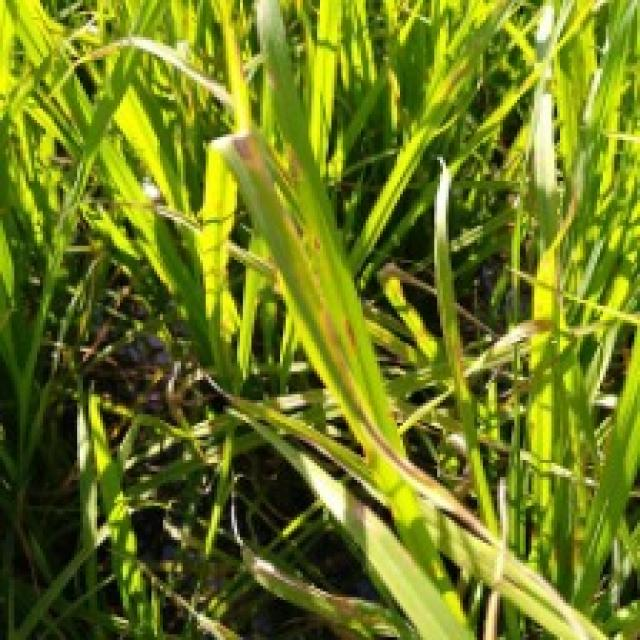Rice___Rice_Blast: (214, 0, 581, 637), (232, 412, 479, 637)
